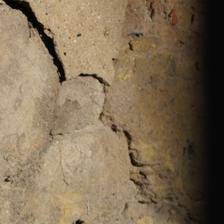Crack: (56, 15, 143, 103), (32, 31, 76, 137)
